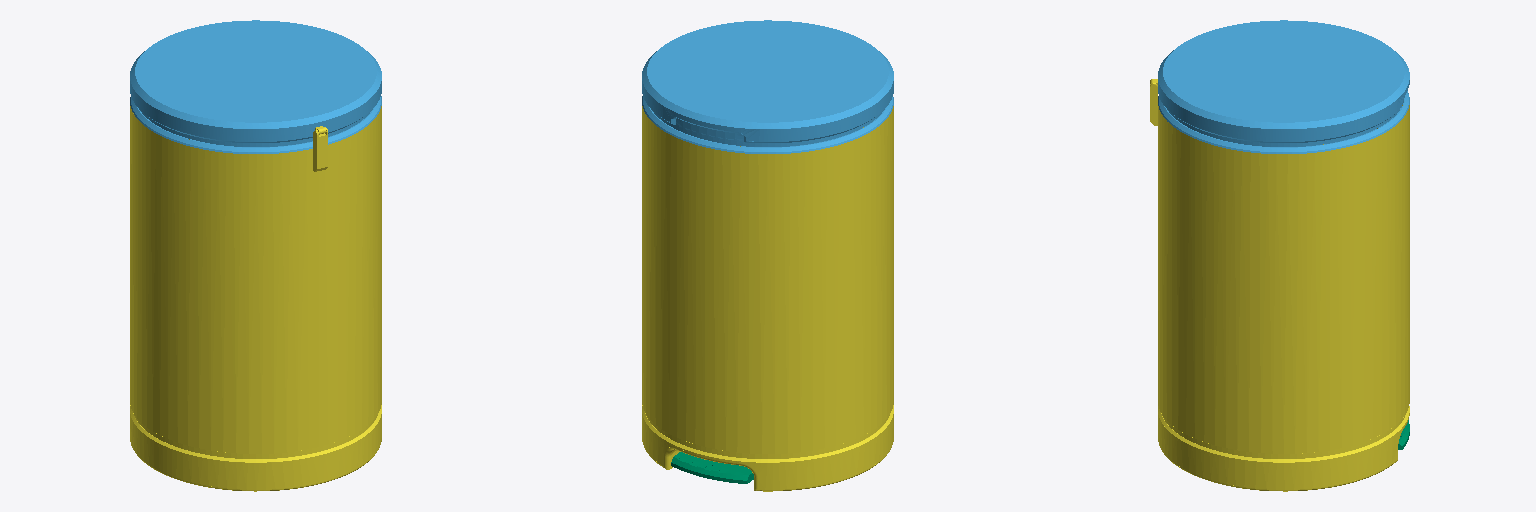
robot.urdf — partnet_544bb6c9c8ff5ebd6c63a10c02702cfc:
<?xml version="1.0" ?>
<robot name="partnet_544bb6c9c8ff5ebd6c63a10c02702cfc">
	<link name="base"/>
	<link name="link_0">
		<visual name="cover_lid-15">
			<origin xyz="-0.548650619932205 -0.7891369489181312 -0.021128000000000036"/>
			<geometry>
				<mesh filename="package://objects_description/trashcan/textured_objs/original-28.obj"/>
			</geometry>
		</visual>
		<visual name="cover_lid-15">
			<origin xyz="-0.548650619932205 -0.7891369489181312 -0.021128000000000036"/>
			<geometry>
				<mesh filename="package://objects_description/trashcan/textured_objs/original-26.obj"/>
			</geometry>
		</visual>
		<visual name="cover_lid-15">
			<origin xyz="-0.548650619932205 -0.7891369489181312 -0.021128000000000036"/>
			<geometry>
				<mesh filename="package://objects_description/trashcan/textured_objs/original-29.obj"/>
			</geometry>
		</visual>
		<visual name="cover_lid-15">
			<origin xyz="-0.548650619932205 -0.7891369489181312 -0.021128000000000036"/>
			<geometry>
				<mesh filename="package://objects_description/trashcan/textured_objs/original-3.obj"/>
			</geometry>
		</visual>
		<visual name="cover_lid-15">
			<origin xyz="-0.548650619932205 -0.7891369489181312 -0.021128000000000036"/>
			<geometry>
				<mesh filename="package://objects_description/trashcan/textured_objs/original-4.obj"/>
			</geometry>
		</visual>
		<visual name="cover_lid-15">
			<origin xyz="-0.548650619932205 -0.7891369489181312 -0.021128000000000036"/>
			<geometry>
				<mesh filename="package://objects_description/trashcan/textured_objs/original-25.obj"/>
			</geometry>
		</visual>
		<collision>
			<origin xyz="-0.548650619932205 -0.7891369489181312 -0.021128000000000036"/>
			<geometry>
				<mesh filename="package://objects_description/trashcan/textured_objs/original-28.obj"/>
			</geometry>
		</collision>
		<collision>
			<origin xyz="-0.548650619932205 -0.7891369489181312 -0.021128000000000036"/>
			<geometry>
				<mesh filename="package://objects_description/trashcan/textured_objs/original-26.obj"/>
			</geometry>
		</collision>
		<collision>
			<origin xyz="-0.548650619932205 -0.7891369489181312 -0.021128000000000036"/>
			<geometry>
				<mesh filename="package://objects_description/trashcan/textured_objs/original-29.obj"/>
			</geometry>
		</collision>
		<collision>
			<origin xyz="-0.548650619932205 -0.7891369489181312 -0.021128000000000036"/>
			<geometry>
				<mesh filename="package://objects_description/trashcan/textured_objs/original-3.obj"/>
			</geometry>
		</collision>
		<collision>
			<origin xyz="-0.548650619932205 -0.7891369489181312 -0.021128000000000036"/>
			<geometry>
				<mesh filename="package://objects_description/trashcan/textured_objs/original-4.obj"/>
			</geometry>
		</collision>
		<collision>
			<origin xyz="-0.548650619932205 -0.7891369489181312 -0.021128000000000036"/>
			<geometry>
				<mesh filename="package://objects_description/trashcan/textured_objs/original-25.obj"/>
			</geometry>
		</collision>
	</link>
	<joint name="joint_0" type="revolute">
		<origin xyz="0.548650619932205 0.7891369489181312 0.021128000000000036"/>
		<axis xyz="0 0 -1"/>
		<child link="link_0"/>
		<parent link="link_2"/>
		<limit lower="-0.0" upper="1.5707963267948966"/>
	</joint>
	<link name="link_1">
		<visual name="container_foot_tap-11">
			<origin xyz="0.3783070268847557 0.8156094772655749 -0.17812699999999992"/>
			<geometry>
				<mesh filename="package://objects_description/trashcan/textured_objs/original-5.obj"/>
			</geometry>
		</visual>
		<collision>
			<origin xyz="0.3783070268847557 0.8156094772655749 -0.17812699999999992"/>
			<geometry>
				<mesh filename="package://objects_description/trashcan/textured_objs/original-5.obj"/>
			</geometry>
		</collision>
	</link>
	<joint name="joint_1" type="revolute">
		<origin xyz="-0.3783070268847557 -0.8156094772655749 0.17812699999999992"/>
		<axis xyz="0 0 1"/>
		<child link="link_1"/>
		<parent link="link_2"/>
		<limit lower="0.0" upper="0.4398229715025711"/>
	</joint>
	<link name="link_2">
		<visual name="frame_holistic-6">
			<origin xyz="0 0 0"/>
			<geometry>
				<mesh filename="package://objects_description/trashcan/textured_objs/original-27.obj"/>
			</geometry>
		</visual>
		<visual name="frame_bottom-7">
			<origin xyz="0 0 0"/>
			<geometry>
				<mesh filename="package://objects_description/trashcan/textured_objs/original-7.obj"/>
			</geometry>
		</visual>
		<visual name="frame_bottom-7">
			<origin xyz="0 0 0"/>
			<geometry>
				<mesh filename="package://objects_description/trashcan/textured_objs/original-6.obj"/>
			</geometry>
		</visual>
		<visual name="frame_bottom-7">
			<origin xyz="0 0 0"/>
			<geometry>
				<mesh filename="package://objects_description/trashcan/textured_objs/original-24.obj"/>
			</geometry>
		</visual>
		<visual name="frame_bottom-7">
			<origin xyz="0 0 0"/>
			<geometry>
				<mesh filename="package://objects_description/trashcan/textured_objs/original-15.obj"/>
			</geometry>
		</visual>
		<visual name="frame_bottom-7">
			<origin xyz="0 0 0"/>
			<geometry>
				<mesh filename="package://objects_description/trashcan/textured_objs/original-17.obj"/>
			</geometry>
		</visual>
		<visual name="frame_bottom-7">
			<origin xyz="0 0 0"/>
			<geometry>
				<mesh filename="package://objects_description/trashcan/textured_objs/original-23.obj"/>
			</geometry>
		</visual>
		<visual name="frame_bottom-7">
			<origin xyz="0 0 0"/>
			<geometry>
				<mesh filename="package://objects_description/trashcan/textured_objs/original-18.obj"/>
			</geometry>
		</visual>
		<visual name="frame_bottom-7">
			<origin xyz="0 0 0"/>
			<geometry>
				<mesh filename="package://objects_description/trashcan/textured_objs/original-12.obj"/>
			</geometry>
		</visual>
		<visual name="frame_bottom-7">
			<origin xyz="0 0 0"/>
			<geometry>
				<mesh filename="package://objects_description/trashcan/textured_objs/original-13.obj"/>
			</geometry>
		</visual>
		<visual name="frame_bottom-7">
			<origin xyz="0 0 0"/>
			<geometry>
				<mesh filename="package://objects_description/trashcan/textured_objs/original-21.obj"/>
			</geometry>
		</visual>
		<visual name="frame_bottom-7">
			<origin xyz="0 0 0"/>
			<geometry>
				<mesh filename="package://objects_description/trashcan/textured_objs/original-22.obj"/>
			</geometry>
		</visual>
		<visual name="frame_bottom-7">
			<origin xyz="0 0 0"/>
			<geometry>
				<mesh filename="package://objects_description/trashcan/textured_objs/original-14.obj"/>
			</geometry>
		</visual>
		<visual name="frame_bottom-7">
			<origin xyz="0 0 0"/>
			<geometry>
				<mesh filename="package://objects_description/trashcan/textured_objs/original-19.obj"/>
			</geometry>
		</visual>
		<visual name="frame_bottom-7">
			<origin xyz="0 0 0"/>
			<geometry>
				<mesh filename="package://objects_description/trashcan/textured_objs/original-16.obj"/>
			</geometry>
		</visual>
		<visual name="frame_bottom-7">
			<origin xyz="0 0 0"/>
			<geometry>
				<mesh filename="package://objects_description/trashcan/textured_objs/original-20.obj"/>
			</geometry>
		</visual>
		<visual name="other_leaf-17">
			<origin xyz="0 0 0"/>
			<geometry>
				<mesh filename="package://objects_description/trashcan/textured_objs/original-2.obj"/>
			</geometry>
		</visual>
		<visual name="other_leaf-17">
			<origin xyz="0 0 0"/>
			<geometry>
				<mesh filename="package://objects_description/trashcan/textured_objs/original-1.obj"/>
			</geometry>
		</visual>
		<visual name="container_box-10">
			<origin xyz="0 0 0"/>
			<geometry>
				<mesh filename="package://objects_description/trashcan/textured_objs/original-8.obj"/>
			</geometry>
		</visual>
		<visual name="container_bottom-12">
			<origin xyz="0 0 0"/>
			<geometry>
				<mesh filename="package://objects_description/trashcan/textured_objs/original-9.obj"/>
			</geometry>
		</visual>
		<visual name="container_bottom-12">
			<origin xyz="0 0 0"/>
			<geometry>
				<mesh filename="package://objects_description/trashcan/textured_objs/original-10.obj"/>
			</geometry>
		</visual>
		<visual name="container_bottom-12">
			<origin xyz="0 0 0"/>
			<geometry>
				<mesh filename="package://objects_description/trashcan/textured_objs/original-31.obj"/>
			</geometry>
		</visual>
		<visual name="container_bottom-12">
			<origin xyz="0 0 0"/>
			<geometry>
				<mesh filename="package://objects_description/trashcan/textured_objs/original-11.obj"/>
			</geometry>
		</visual>
		<visual name="container_bottom-12">
			<origin xyz="0 0 0"/>
			<geometry>
				<mesh filename="package://objects_description/trashcan/textured_objs/original-30.obj"/>
			</geometry>
		</visual>
		<collision>
			<origin xyz="0 0 0"/>
			<geometry>
				<mesh filename="package://objects_description/trashcan/textured_objs/original-27.obj"/>
			</geometry>
		</collision>
		<collision>
			<origin xyz="0 0 0"/>
			<geometry>
				<mesh filename="package://objects_description/trashcan/textured_objs/original-7.obj"/>
			</geometry>
		</collision>
		<collision>
			<origin xyz="0 0 0"/>
			<geometry>
				<mesh filename="package://objects_description/trashcan/textured_objs/original-6.obj"/>
			</geometry>
		</collision>
		<collision>
			<origin xyz="0 0 0"/>
			<geometry>
				<mesh filename="package://objects_description/trashcan/textured_objs/original-24.obj"/>
			</geometry>
		</collision>
		<collision>
			<origin xyz="0 0 0"/>
			<geometry>
				<mesh filename="package://objects_description/trashcan/textured_objs/original-15.obj"/>
			</geometry>
		</collision>
		<collision>
			<origin xyz="0 0 0"/>
			<geometry>
				<mesh filename="package://objects_description/trashcan/textured_objs/original-17.obj"/>
			</geometry>
		</collision>
		<collision>
			<origin xyz="0 0 0"/>
			<geometry>
				<mesh filename="package://objects_description/trashcan/textured_objs/original-23.obj"/>
			</geometry>
		</collision>
		<collision>
			<origin xyz="0 0 0"/>
			<geometry>
				<mesh filename="package://objects_description/trashcan/textured_objs/original-18.obj"/>
			</geometry>
		</collision>
		<collision>
			<origin xyz="0 0 0"/>
			<geometry>
				<mesh filename="package://objects_description/trashcan/textured_objs/original-12.obj"/>
			</geometry>
		</collision>
		<collision>
			<origin xyz="0 0 0"/>
			<geometry>
				<mesh filename="package://objects_description/trashcan/textured_objs/original-13.obj"/>
			</geometry>
		</collision>
		<collision>
			<origin xyz="0 0 0"/>
			<geometry>
				<mesh filename="package://objects_description/trashcan/textured_objs/original-21.obj"/>
			</geometry>
		</collision>
		<collision>
			<origin xyz="0 0 0"/>
			<geometry>
				<mesh filename="package://objects_description/trashcan/textured_objs/original-22.obj"/>
			</geometry>
		</collision>
		<collision>
			<origin xyz="0 0 0"/>
			<geometry>
				<mesh filename="package://objects_description/trashcan/textured_objs/original-14.obj"/>
			</geometry>
		</collision>
		<collision>
			<origin xyz="0 0 0"/>
			<geometry>
				<mesh filename="package://objects_description/trashcan/textured_objs/original-19.obj"/>
			</geometry>
		</collision>
		<collision>
			<origin xyz="0 0 0"/>
			<geometry>
				<mesh filename="package://objects_description/trashcan/textured_objs/original-16.obj"/>
			</geometry>
		</collision>
		<collision>
			<origin xyz="0 0 0"/>
			<geometry>
				<mesh filename="package://objects_description/trashcan/textured_objs/original-20.obj"/>
			</geometry>
		</collision>
		<collision>
			<origin xyz="0 0 0"/>
			<geometry>
				<mesh filename="package://objects_description/trashcan/textured_objs/original-2.obj"/>
			</geometry>
		</collision>
		<collision>
			<origin xyz="0 0 0"/>
			<geometry>
				<mesh filename="package://objects_description/trashcan/textured_objs/original-1.obj"/>
			</geometry>
		</collision>
		<collision>
			<origin xyz="0 0 0"/>
			<geometry>
				<mesh filename="package://objects_description/trashcan/textured_objs/original-8.obj"/>
			</geometry>
		</collision>
		<collision>
			<origin xyz="0 0 0"/>
			<geometry>
				<mesh filename="package://objects_description/trashcan/textured_objs/original-9.obj"/>
			</geometry>
		</collision>
		<collision>
			<origin xyz="0 0 0"/>
			<geometry>
				<mesh filename="package://objects_description/trashcan/textured_objs/original-10.obj"/>
			</geometry>
		</collision>
		<collision>
			<origin xyz="0 0 0"/>
			<geometry>
				<mesh filename="package://objects_description/trashcan/textured_objs/original-31.obj"/>
			</geometry>
		</collision>
		<collision>
			<origin xyz="0 0 0"/>
			<geometry>
				<mesh filename="package://objects_description/trashcan/textured_objs/original-11.obj"/>
			</geometry>
		</collision>
		<collision>
			<origin xyz="0 0 0"/>
			<geometry>
				<mesh filename="package://objects_description/trashcan/textured_objs/original-30.obj"/>
			</geometry>
		</collision>
	</link>
	<joint name="joint_2" type="fixed">
		<origin rpy="1.570796326794897 0 -1.570796326794897" xyz="0 0 0"/>
		<child link="link_2"/>
		<parent link="base"/>
	</joint>
</robot>

--- Render facts (derived) ---
The picture shows the robot from 3 angles, left to right: view 1: azimuth 30°, elevation 25°; view 2: azimuth 150°, elevation 25°; view 3: azimuth 270°, elevation 25°; orthographic projection.
Model partnet_544bb6c9c8ff5ebd6c63a10c02702cfc with 4 links and 3 joints (2 revolute, 1 fixed), rooted at base, posed every joint at zero.
Links seen in each view (by area): view 1: link_2, link_0; view 2: link_2, link_0, link_1; view 3: link_2, link_0.
Boxes of the visible links, left/top/right/bottom form: link_2: left=130, top=106, right=381, bottom=491; link_0: left=130, top=20, right=381, bottom=153; link_2: left=642, top=106, right=893, bottom=491; link_0: left=642, top=20, right=893, bottom=153; link_1: left=671, top=452, right=753, bottom=483; link_2: left=1150, top=79, right=1409, bottom=491; link_0: left=1158, top=20, right=1409, bottom=153.
Bounding box of the posed robot: 1.06 × 1.09 × 1.7 m (x, y, z).
31 mesh visuals loaded from 31 distinct referenced files (31 OBJ).